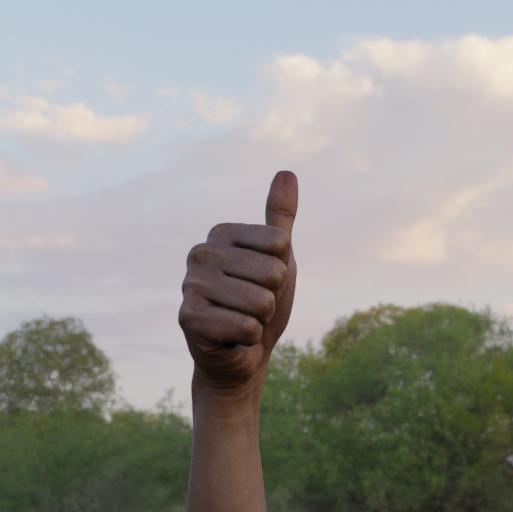thumbs-up: (178, 166, 298, 390)
